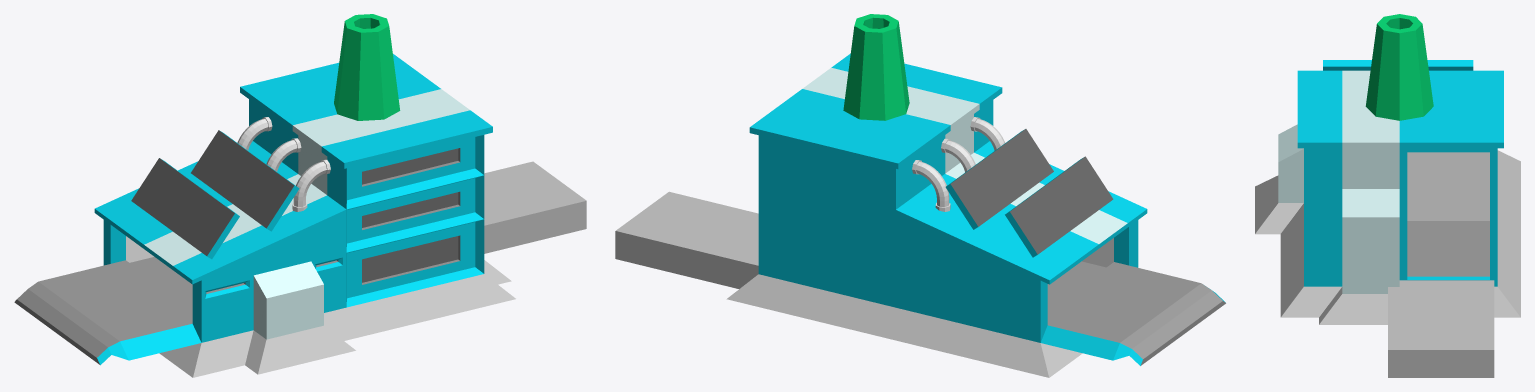
File: factory.dae
The picture shows the model from 3 angles, left to right: view 1: azimuth 30°, elevation 25°; view 2: azimuth 150°, elevation 25°; view 3: azimuth 270°, elevation 25°; orthographic projection.
Visible parts, largest first — view 1: Layer_1; view 2: Layer_1; view 3: Layer_1.
Part boxes in pixels (x1,y1,x2,y2): Layer_1: (14, 14, 586, 377); Layer_1: (615, 14, 1225, 377); Layer_1: (1255, 14, 1520, 377).
Size of the model in its own units: 85.65 by 38.11 by 39.69.
